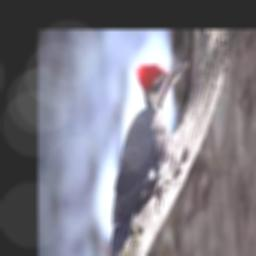Woodpecker: (109, 61, 188, 256)
